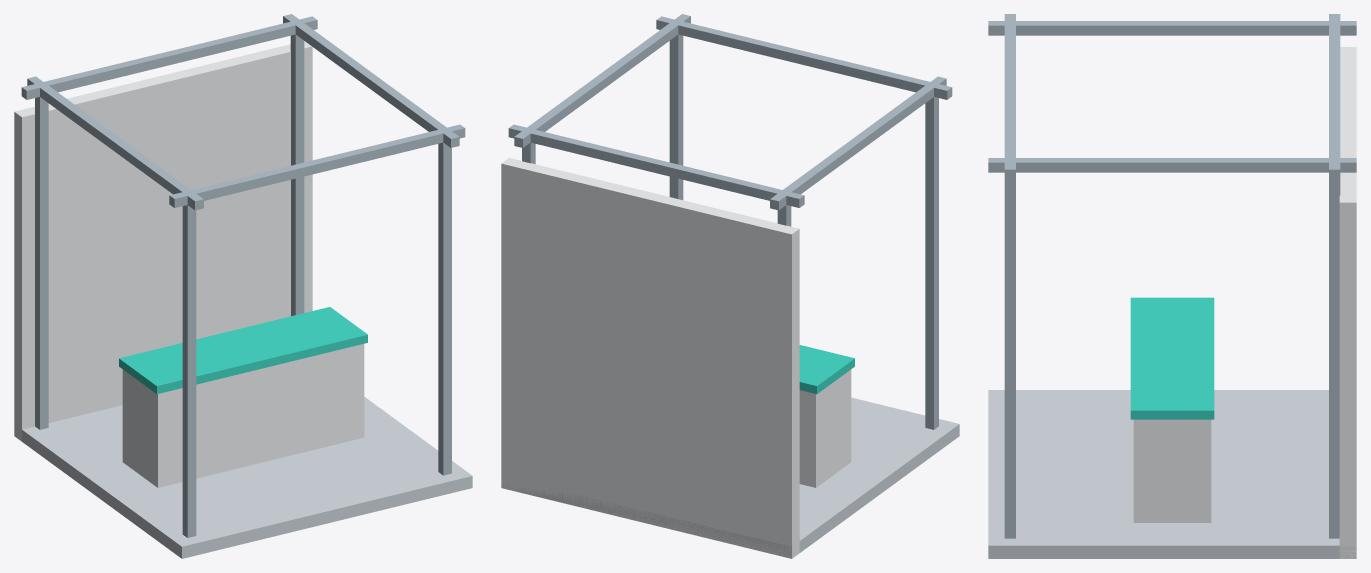
The picture shows the model from 3 angles, left to right: view 1: azimuth 30°, elevation 25°; view 2: azimuth 150°, elevation 25°; view 3: azimuth 270°, elevation 25°; orthographic projection. The views are drawn at different scales.
Parts seen in each view (by area): view 1: Exhibition Booth Concept; view 2: Exhibition Booth Concept; view 3: Exhibition Booth Concept.
Part boxes in pixels (x1,y1,x2,y2): Exhibition Booth Concept: (14, 14, 472, 558); Exhibition Booth Concept: (501, 14, 959, 558); Exhibition Booth Concept: (988, 14, 1356, 558).
Size of the model in its own units: 3 by 3.49 by 3.
